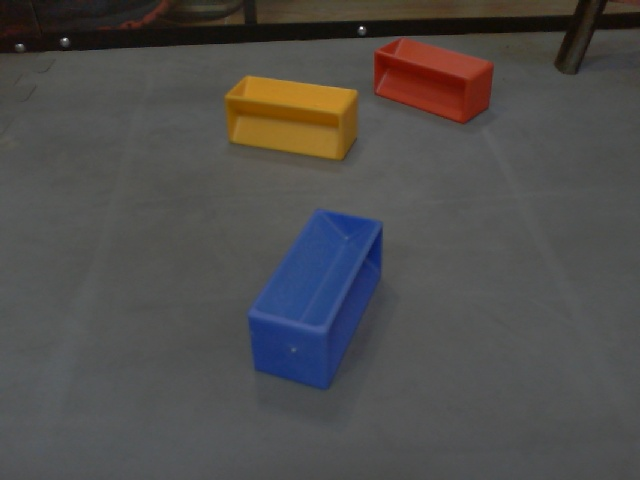BlueSample: (247, 209, 385, 390)
RedSample: (374, 37, 495, 129)
YellowSample: (223, 71, 358, 161)
